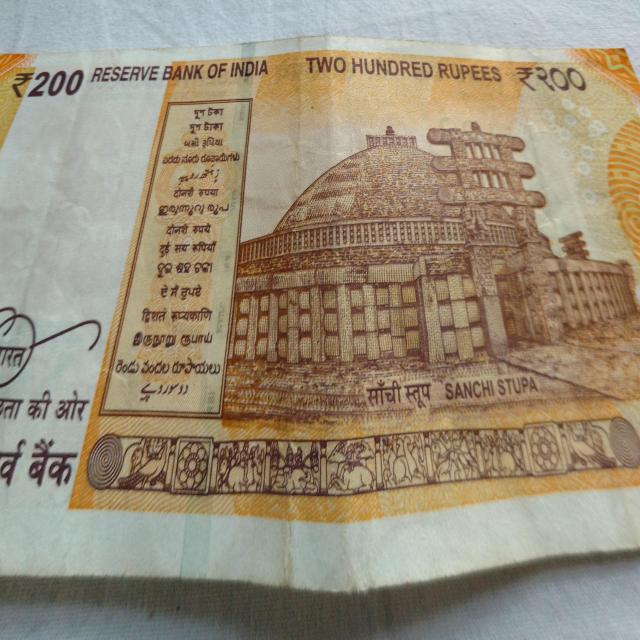Currency: (0, 48, 640, 546)
